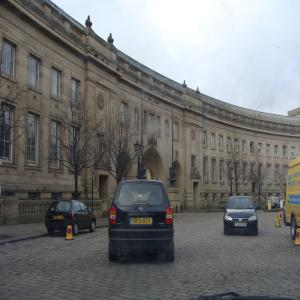Vehicle-registration-plate: (131, 218, 153, 225), (234, 221, 248, 229), (54, 215, 64, 220)
